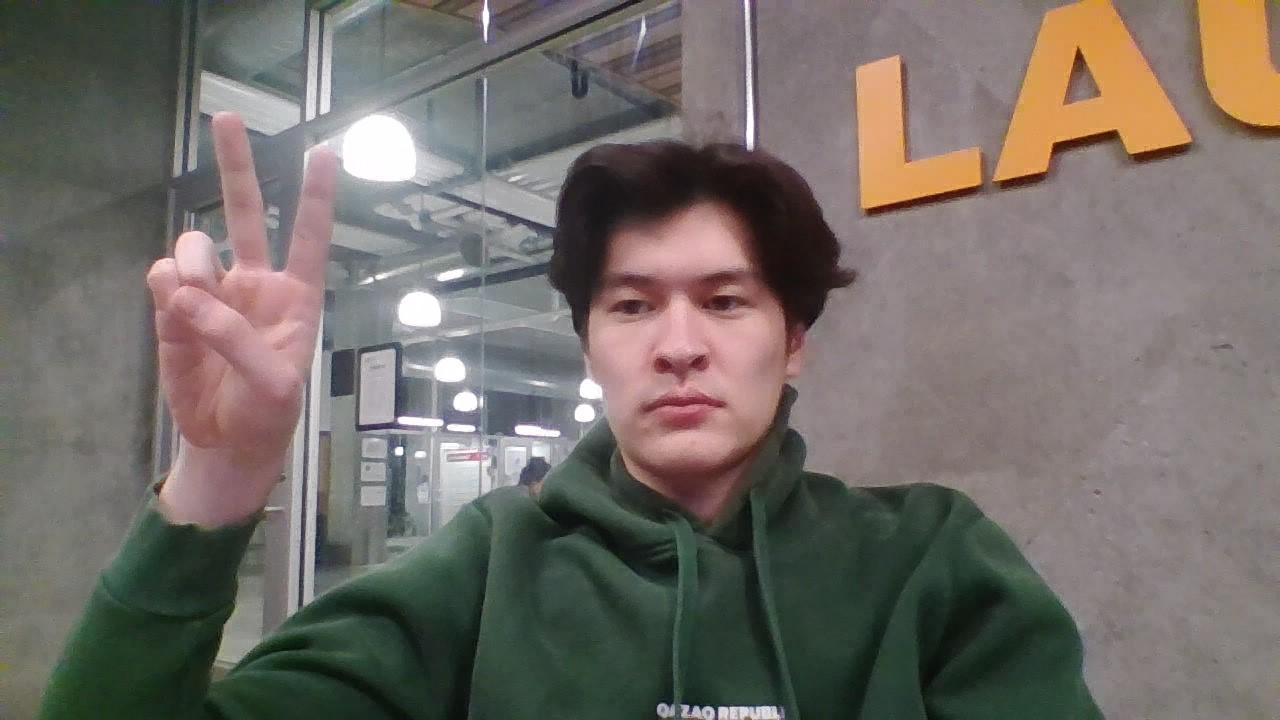peace: (150, 111, 337, 447)
